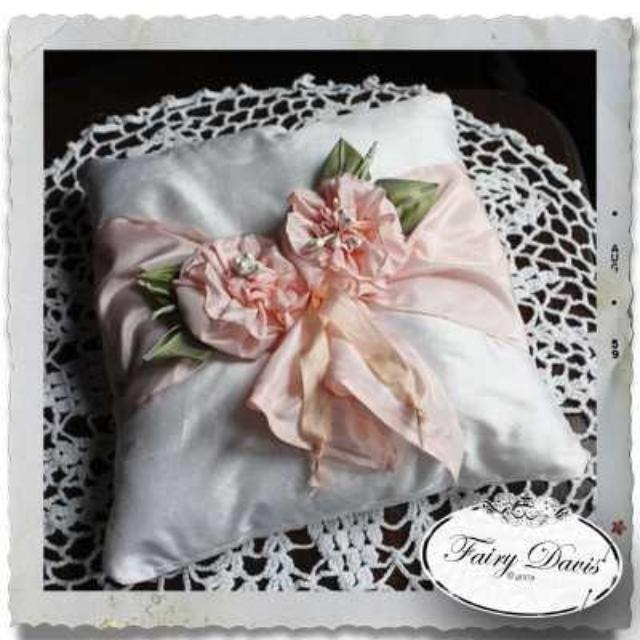pillow: (76, 85, 592, 585)
